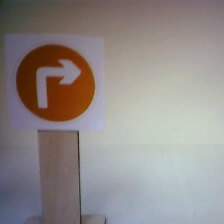right: (7, 36, 99, 128)
